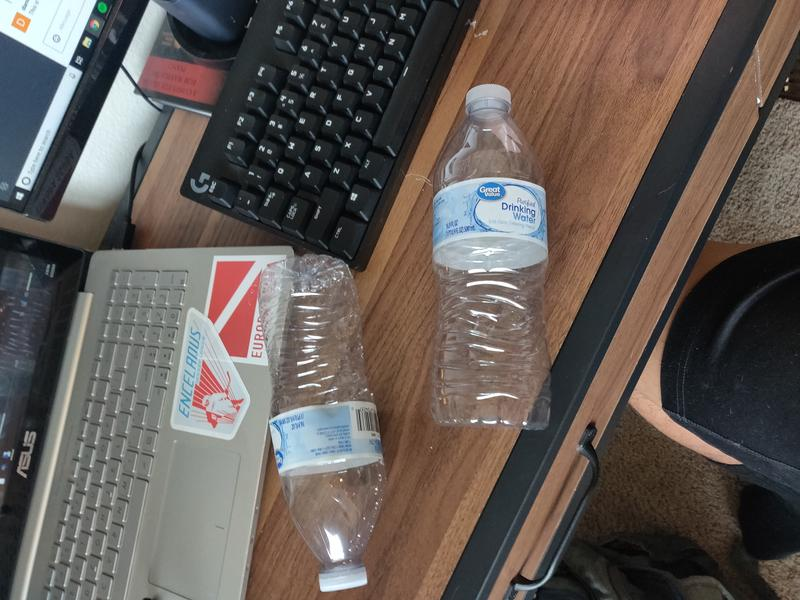bottle: (258, 253, 384, 592), (430, 84, 551, 429)
